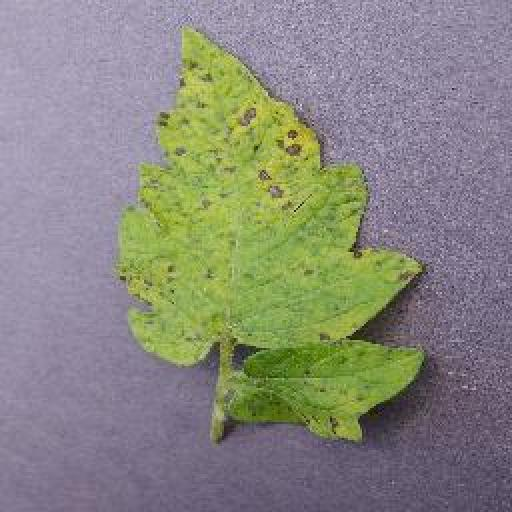disease_tomato: (120, 28, 426, 444)
